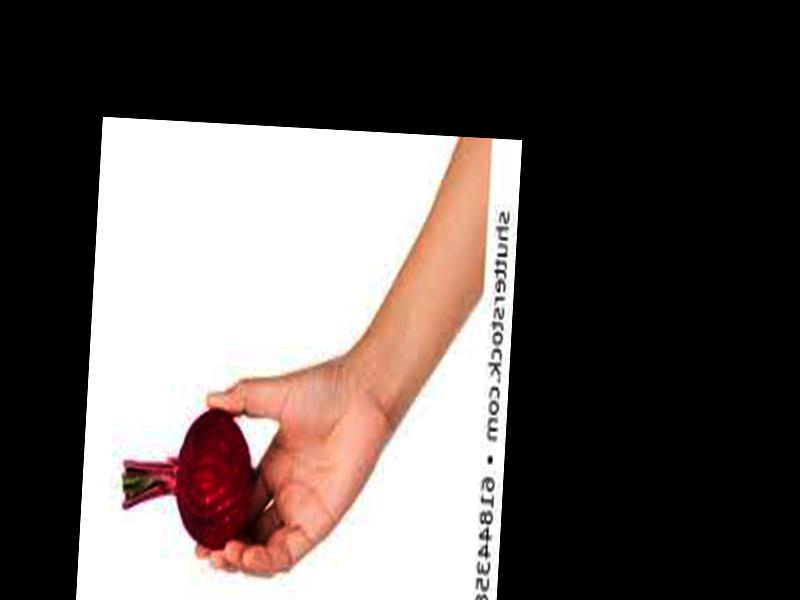Beet: (118, 405, 257, 554)
